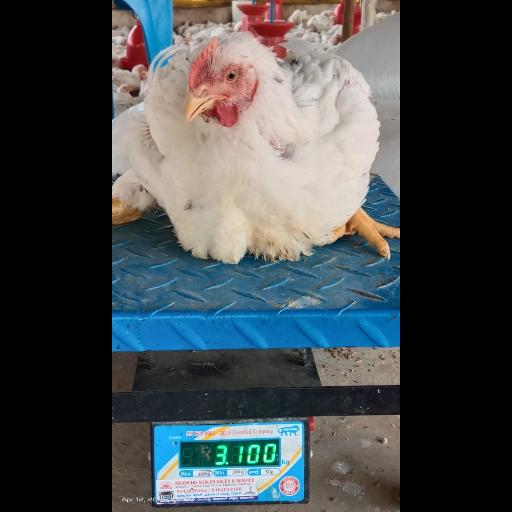chick: (112, 30, 400, 263)
